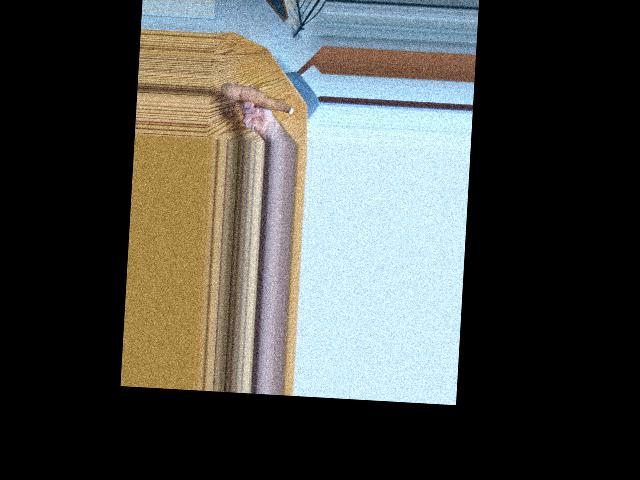sweet_potato: (221, 79, 294, 118)
